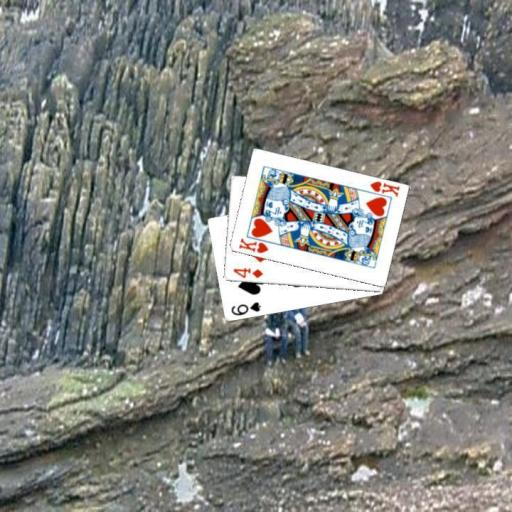card-corner: (366, 178, 400, 198), (228, 300, 262, 318), (236, 236, 270, 254), (230, 264, 264, 280)
